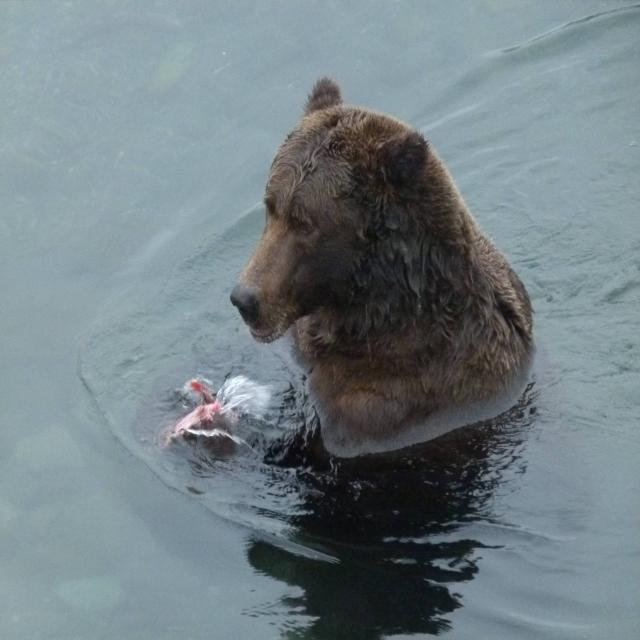bear face: (228, 76, 528, 429)
